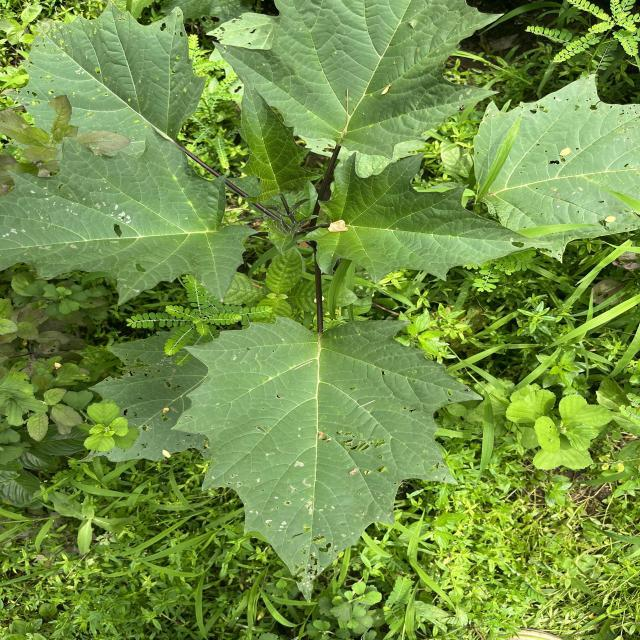Datura metal linn: (168, 314, 486, 605), (210, 0, 507, 162), (0, 120, 260, 305), (294, 148, 556, 286), (1, 0, 210, 156), (472, 72, 640, 265), (236, 68, 327, 205)
